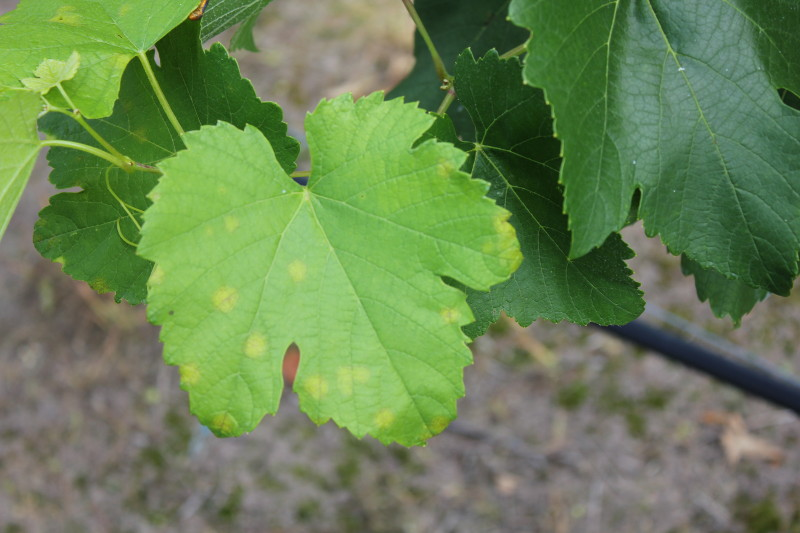downy: (489, 206, 518, 275), (334, 363, 372, 395), (241, 326, 274, 359), (433, 304, 469, 331), (431, 149, 465, 177), (211, 284, 241, 315), (303, 372, 333, 402), (280, 256, 312, 282), (178, 351, 201, 387), (213, 404, 237, 434), (49, 4, 82, 25), (100, 47, 134, 67), (417, 417, 449, 436), (372, 408, 394, 432), (210, 180, 232, 200), (221, 210, 239, 232), (149, 266, 165, 288)
